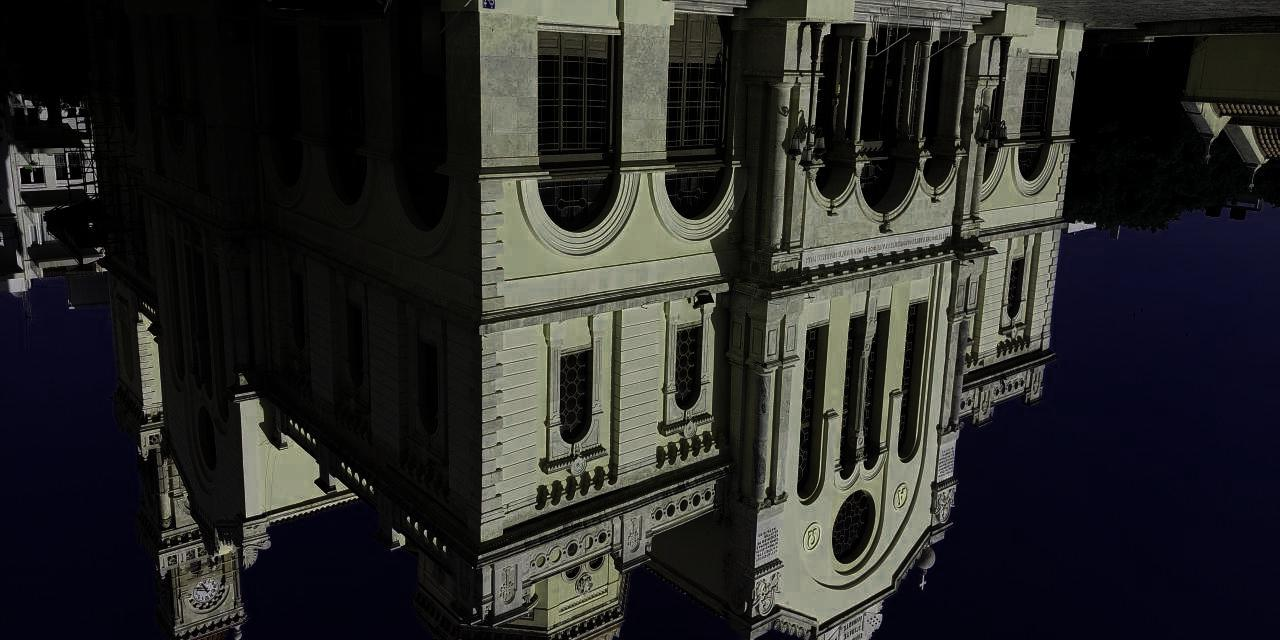Agios Minas: (86, 1, 1082, 640)
